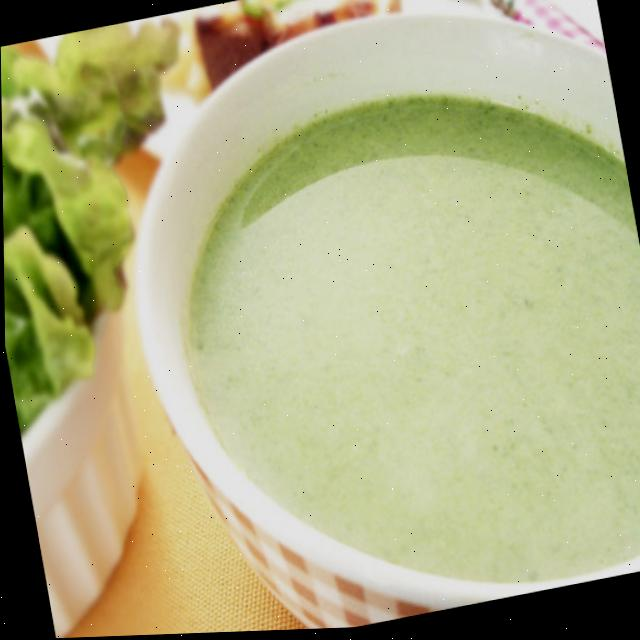汤锅炖物: (84, 0, 640, 638)
